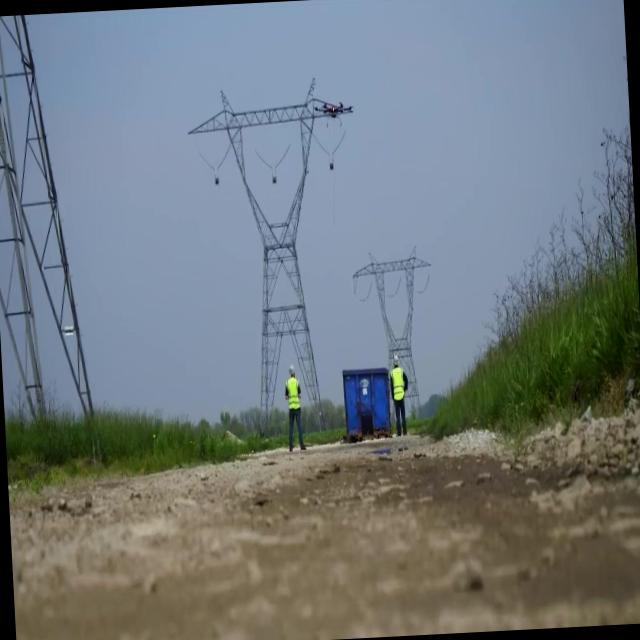drone: (312, 98, 353, 128)
